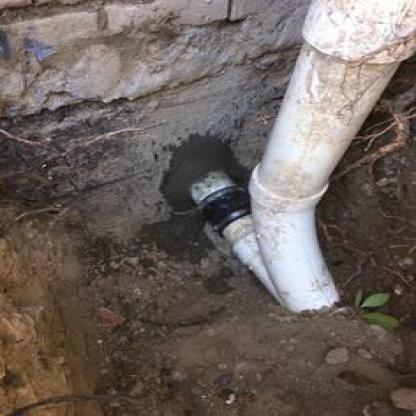PVC: (187, 3, 414, 313)
